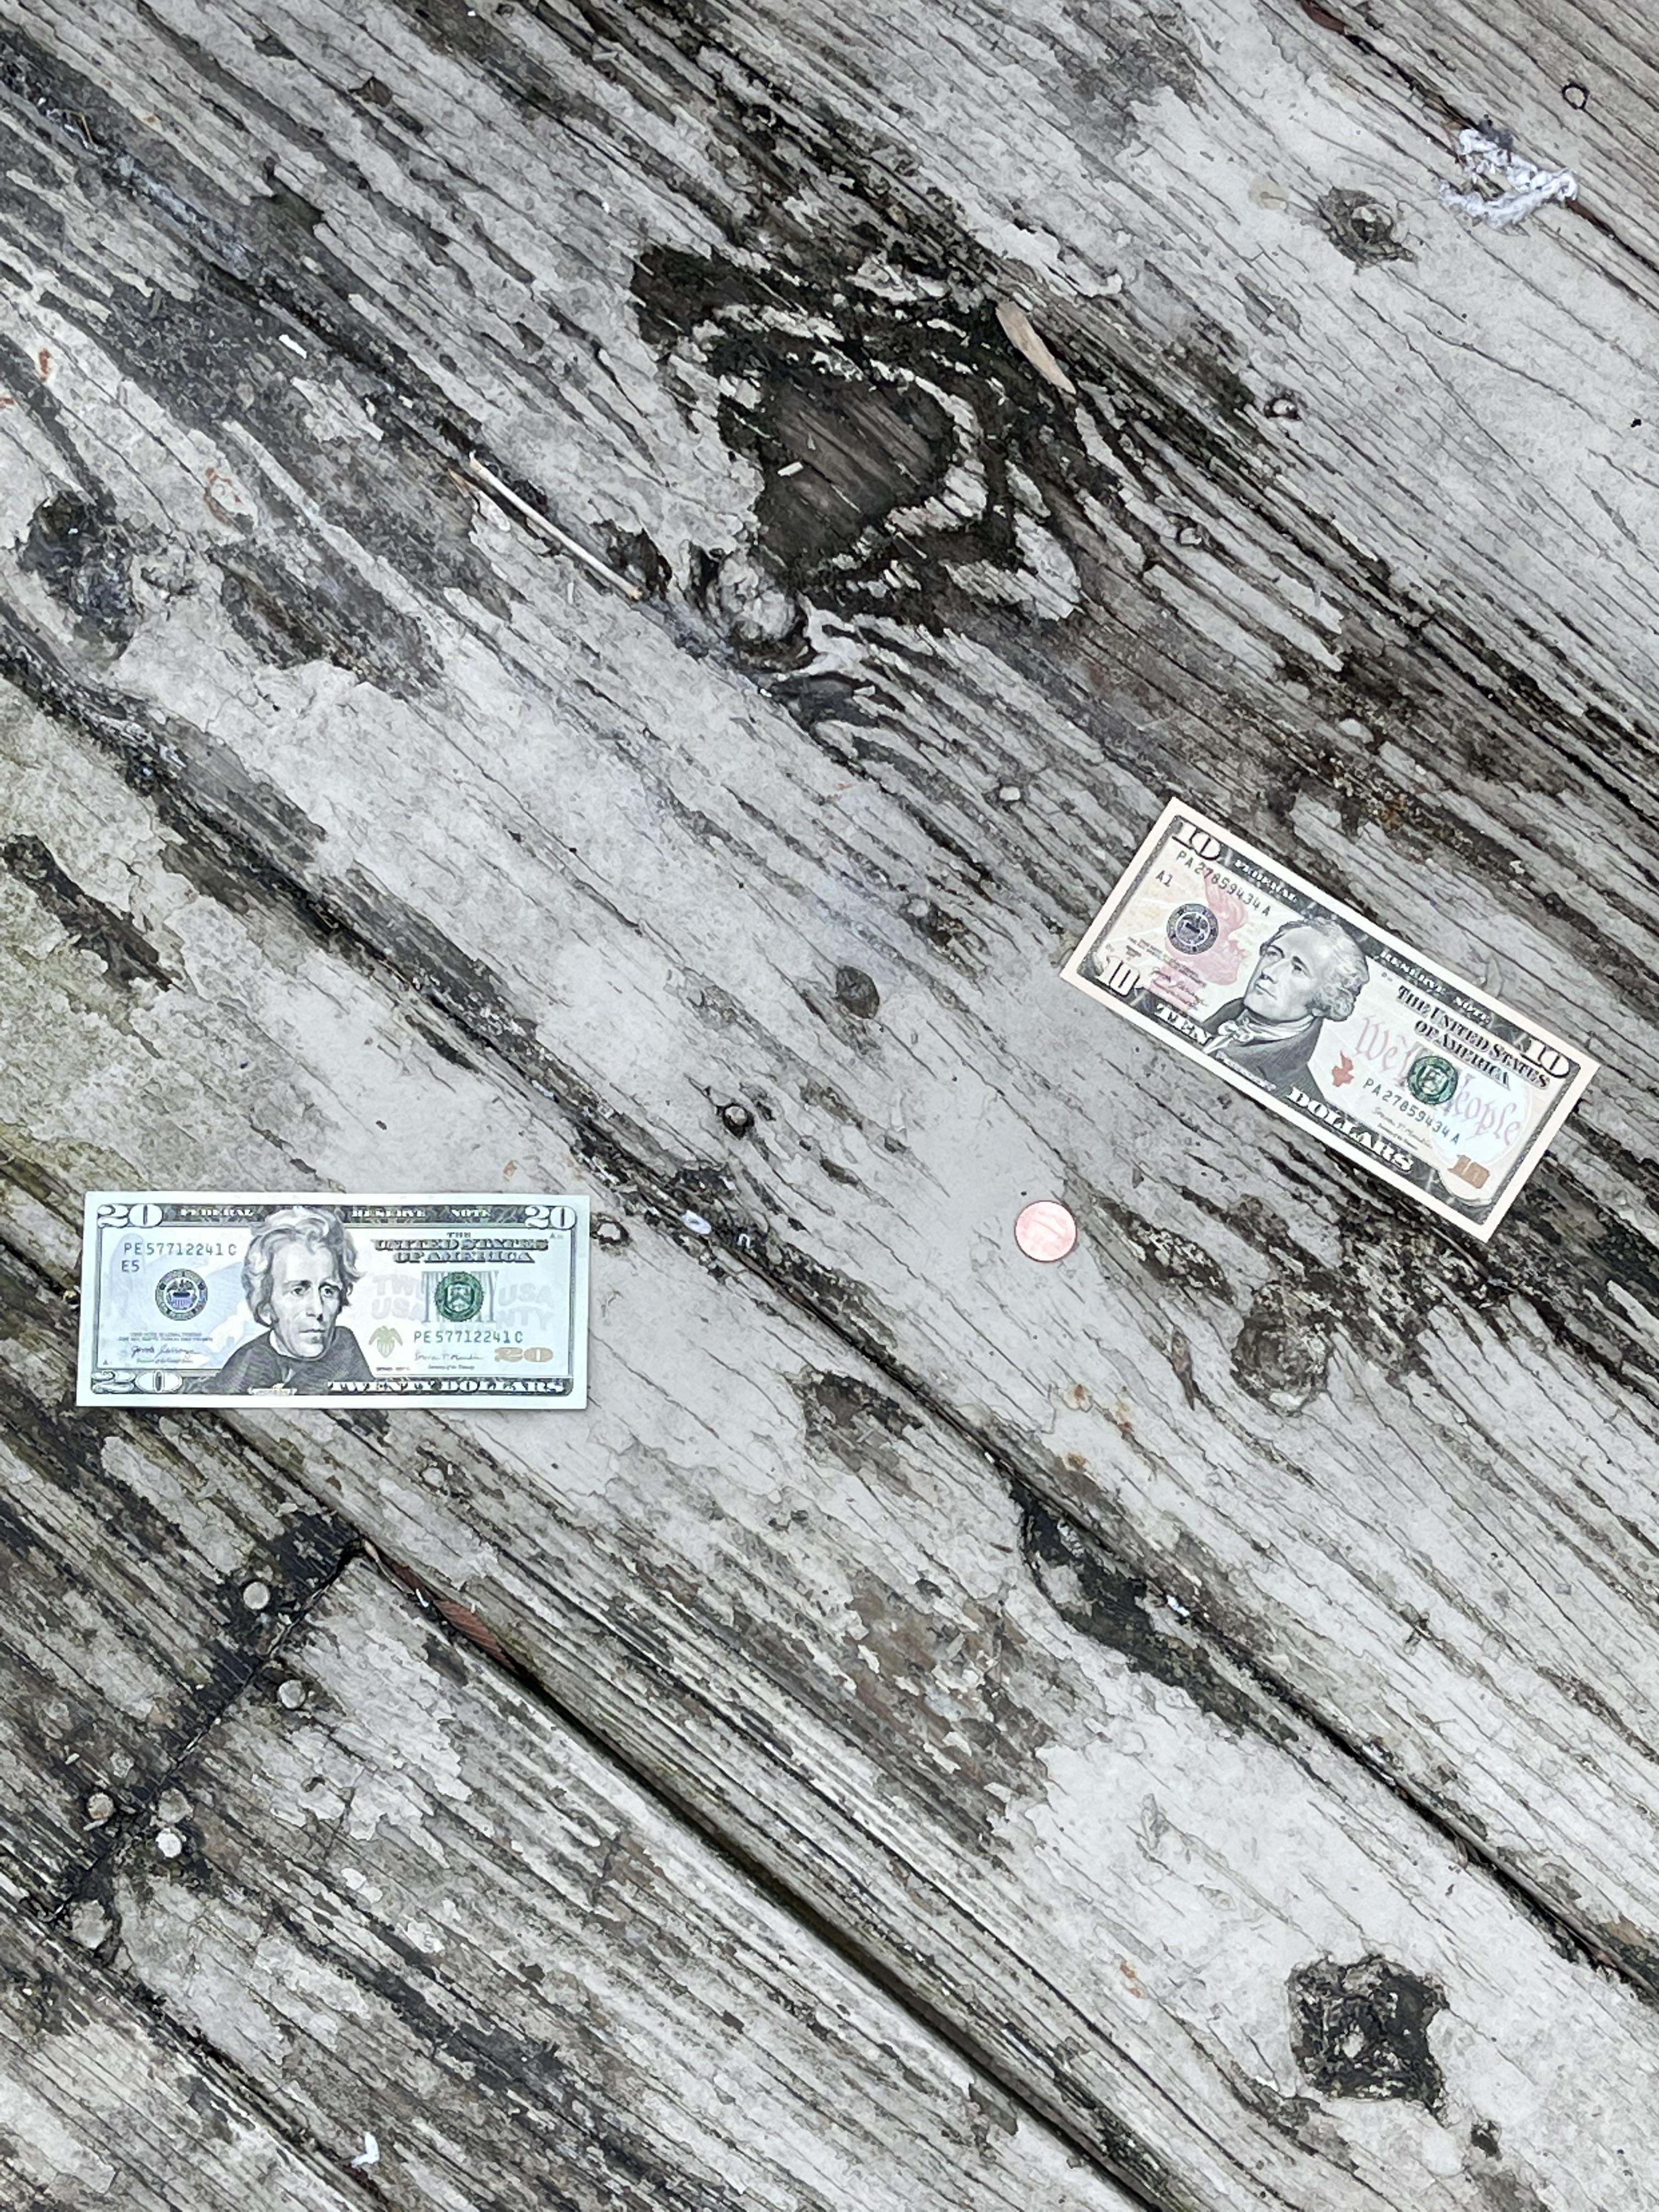Penny: (1012, 1200, 1077, 1263)
TenBill: (1058, 794, 1601, 1245)
TwentyBill: (73, 1190, 592, 1411)
